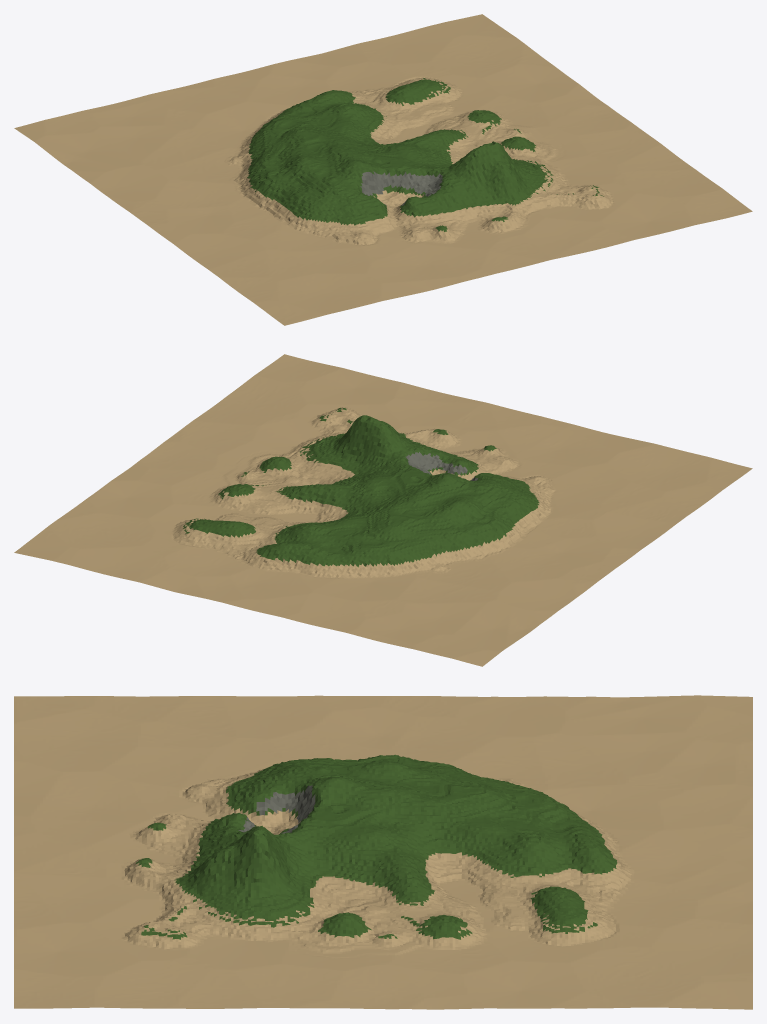
The model's file is Island_uv-v3 FLAT.fbx.
The picture shows the model from 3 angles, top to bottom: view 1: azimuth 30°, elevation 25°; view 2: azimuth 150°, elevation 25°; view 3: azimuth 270°, elevation 25°; orthographic projection. The views are drawn at different scales.
Parts seen in each view (by area): view 1: Plane; view 2: Plane; view 3: Plane.
Part boxes in pixels (x1=…): Plane: x1=14, y1=14, x2=752, y2=325; Plane: x1=14, y1=354, x2=752, y2=666; Plane: x1=14, y1=695, x2=752, y2=1009.
Size of the model in its own units: 25600 by 2402 by 25600.
